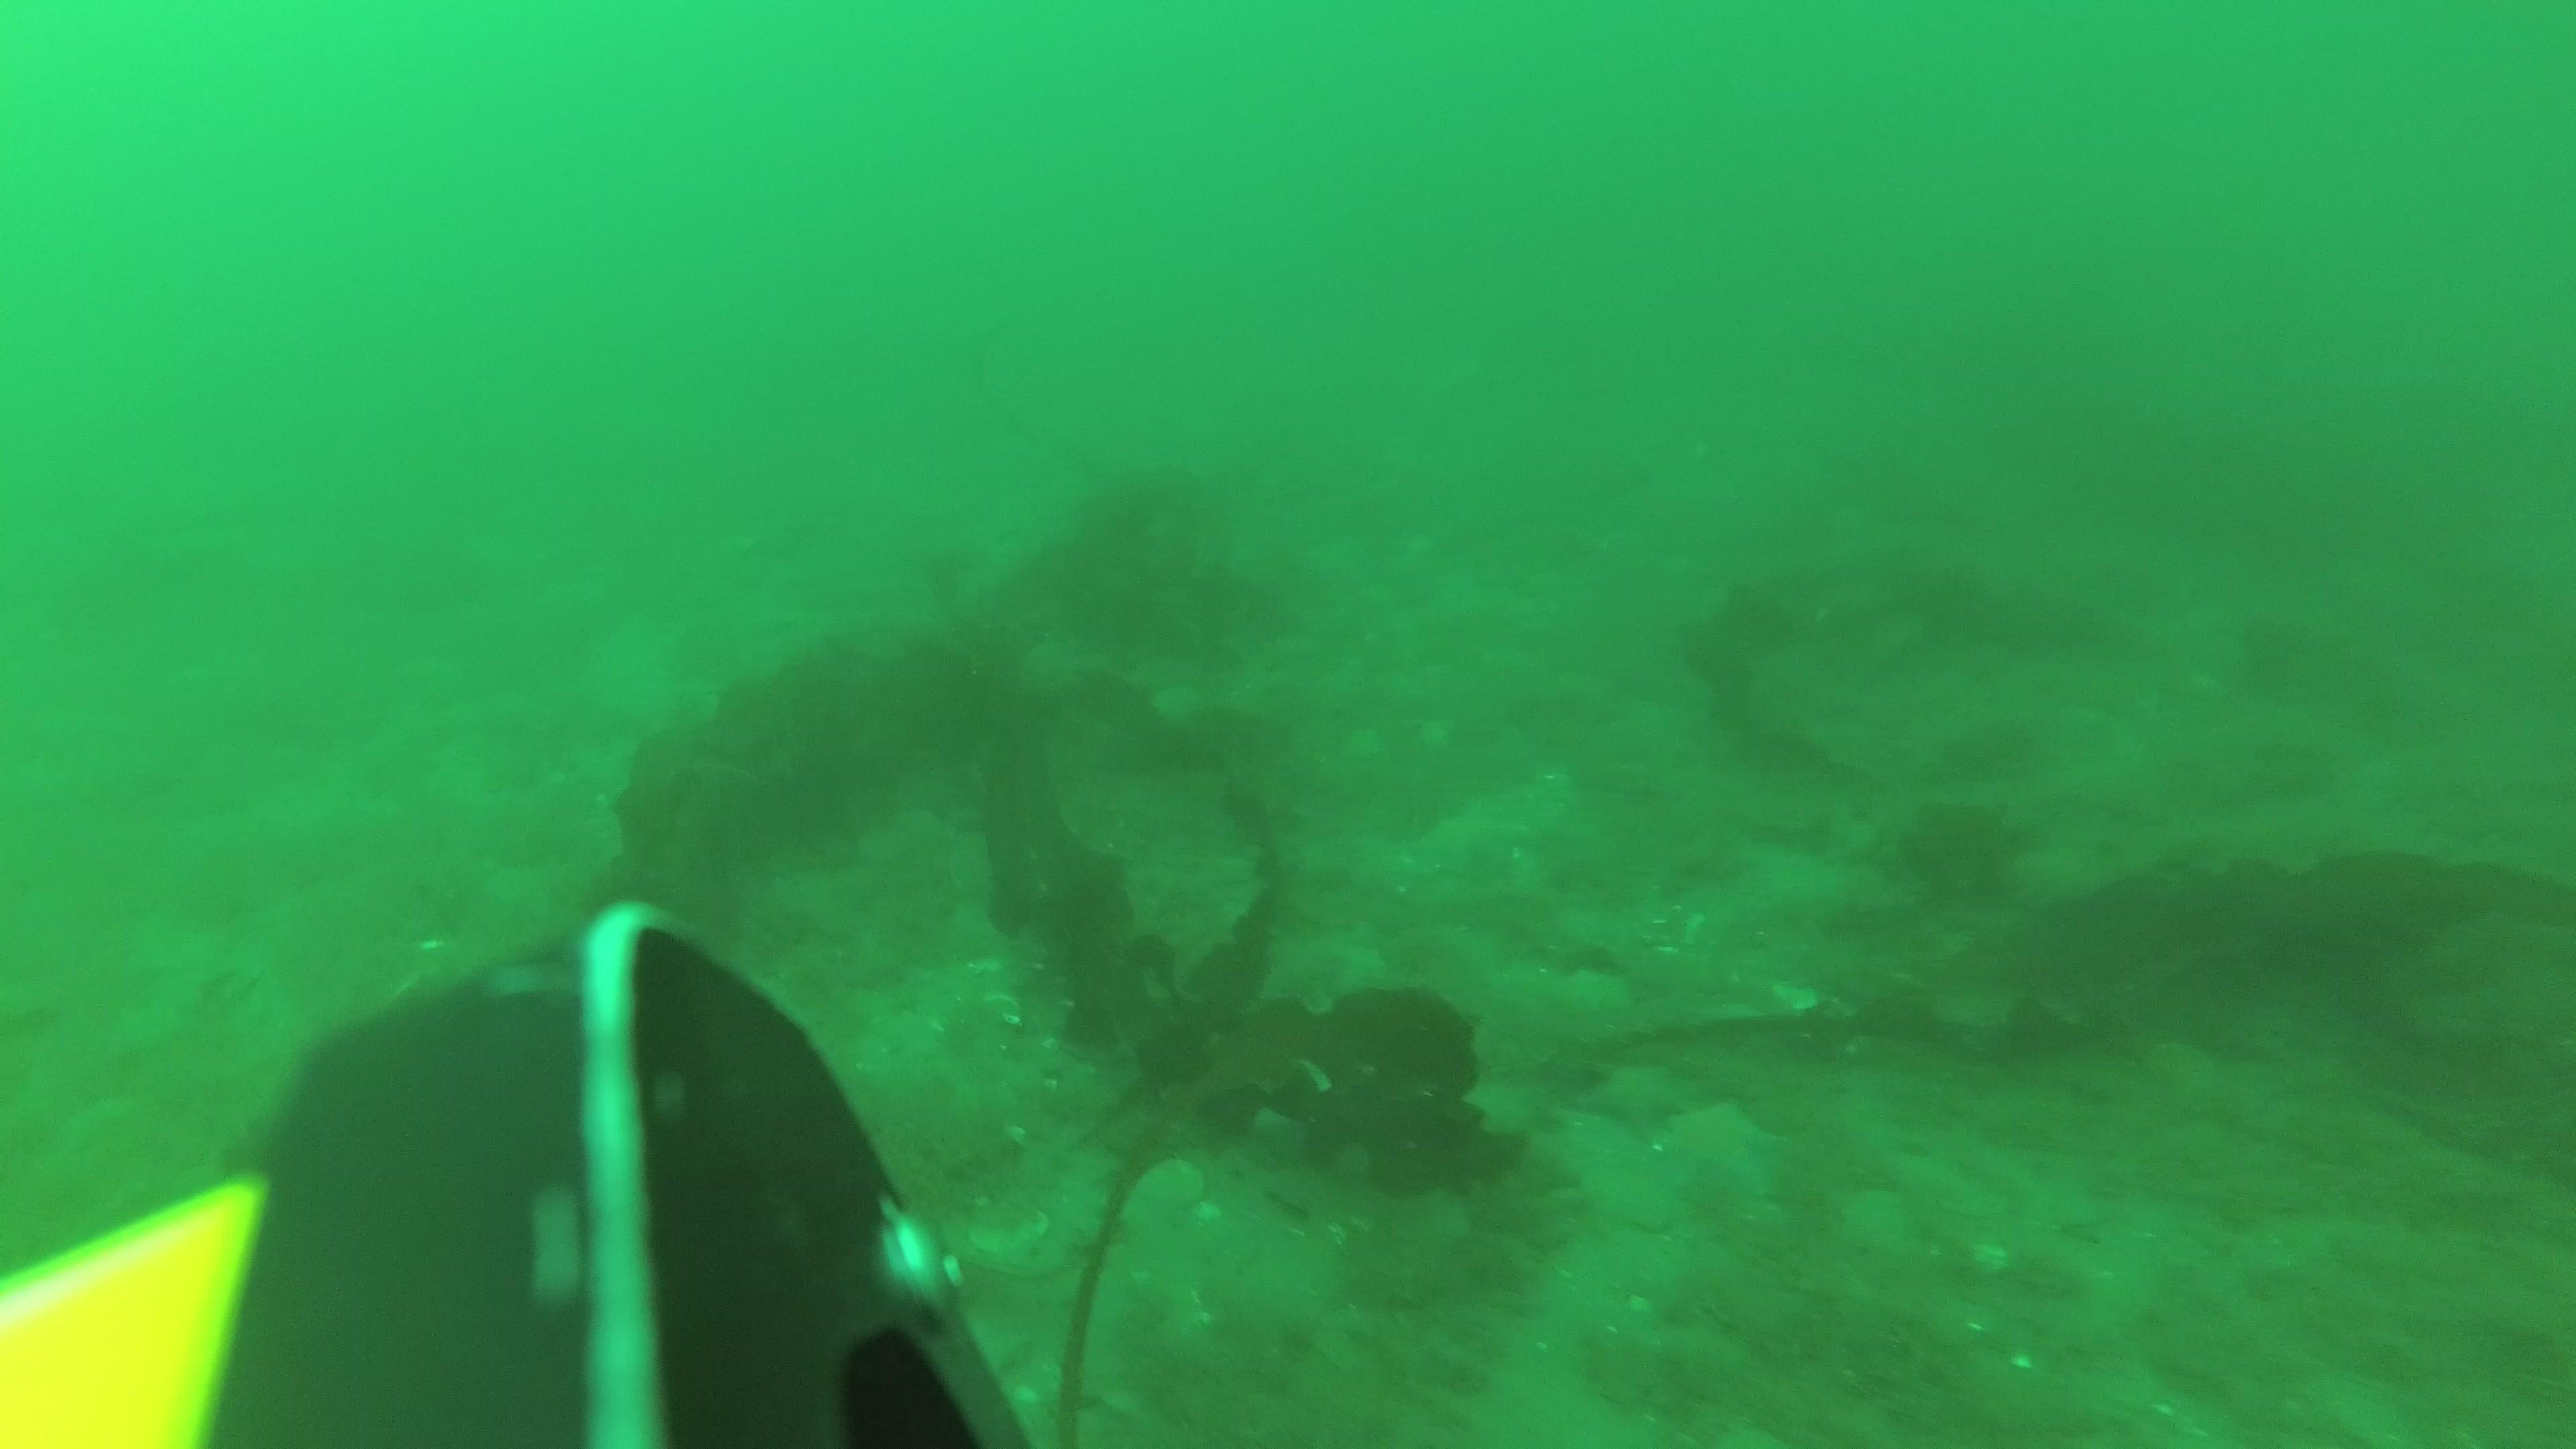scallop: (1120, 1145, 1219, 1233), (955, 1185, 1056, 1258), (1668, 1318, 1755, 1399), (1844, 1191, 1913, 1254)
starfish: (1654, 1093, 1787, 1205), (1587, 1054, 1688, 1136)
